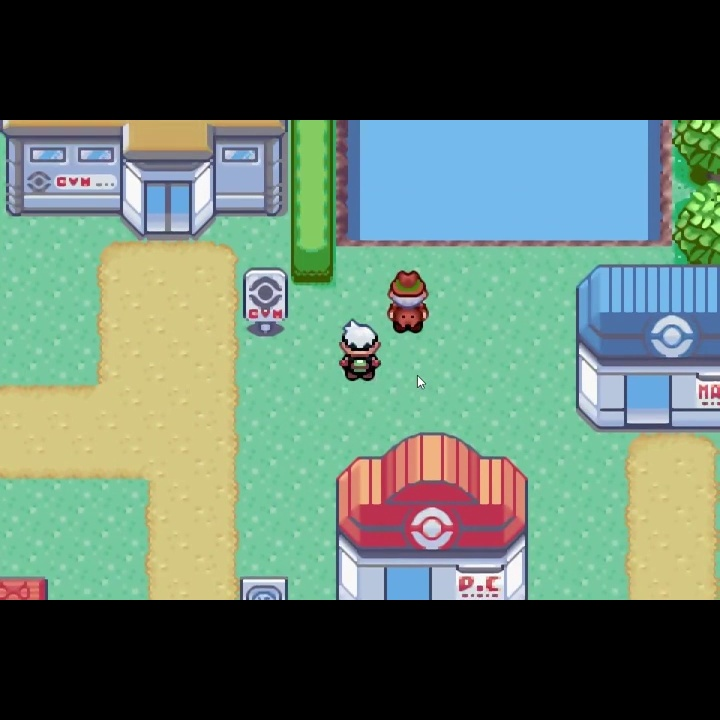agent: (335, 318, 385, 385)
gym: (1, 120, 288, 244)
npc: (383, 265, 432, 336)
pokecen: (331, 429, 532, 601)
pokemart: (572, 261, 720, 435)
